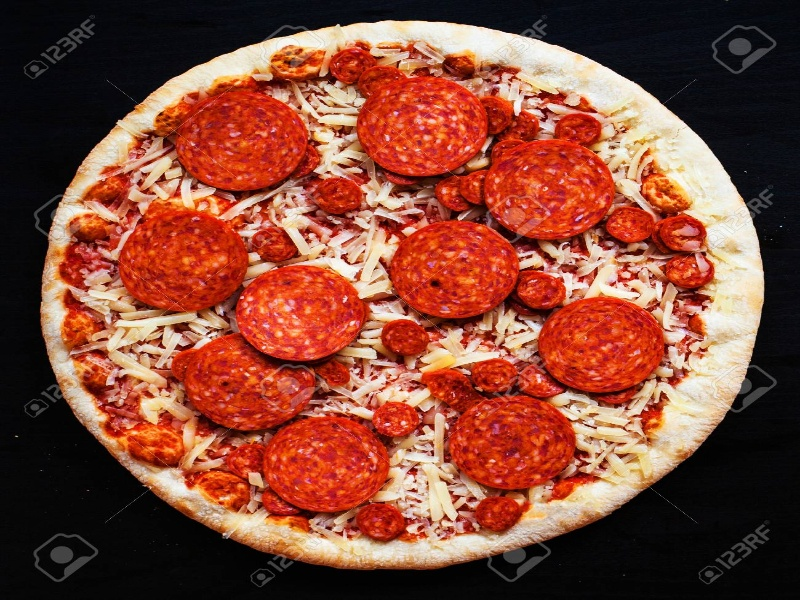pepperonis: (171, 87, 309, 196), (228, 256, 366, 363), (354, 70, 486, 181), (388, 213, 520, 324), (120, 202, 246, 317), (492, 132, 618, 243), (438, 396, 593, 486), (540, 289, 664, 393), (260, 420, 394, 509), (462, 354, 525, 399), (312, 173, 372, 217), (469, 491, 525, 536), (366, 398, 425, 438), (380, 318, 433, 360), (249, 226, 309, 263), (661, 253, 717, 292), (518, 268, 566, 310), (604, 206, 655, 244)
